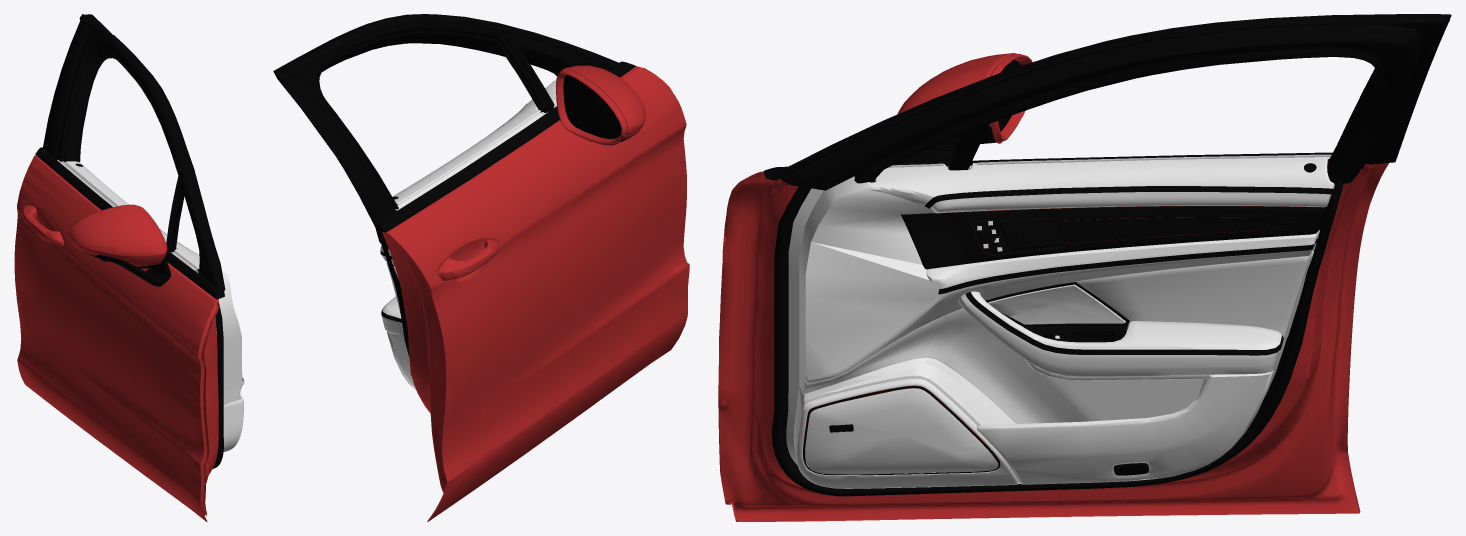
File: Dreapta_Fata.fbx
3 renders of one model, left to right at view 1: azimuth 30°, elevation 25°; view 2: azimuth 150°, elevation 25°; view 3: azimuth 270°, elevation 25°, orthographic. The views are drawn at different scales.
Parts seen in each view (by area): view 1: door_RF; view 2: door_RF; view 3: door_RF.
Part boxes in pixels (x1,y1,x2,y2): door_RF: [14, 14, 244, 521]; door_RF: [273, 14, 689, 521]; door_RF: [718, 14, 1451, 521].
Size of the model in its own units: 923 by 1977 by 2275.
